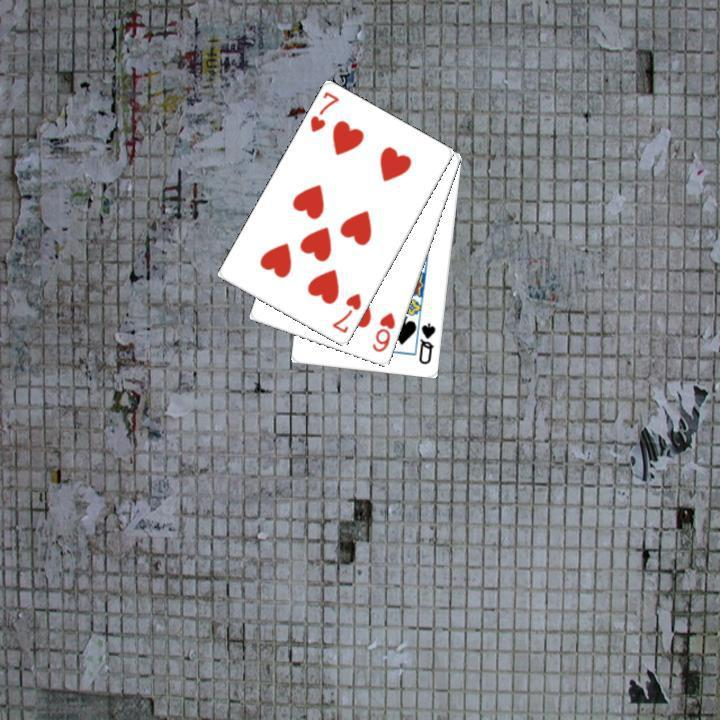6: (368, 308, 397, 355)
7: (306, 87, 341, 135), (328, 289, 363, 336)
Q: (415, 319, 438, 367)
